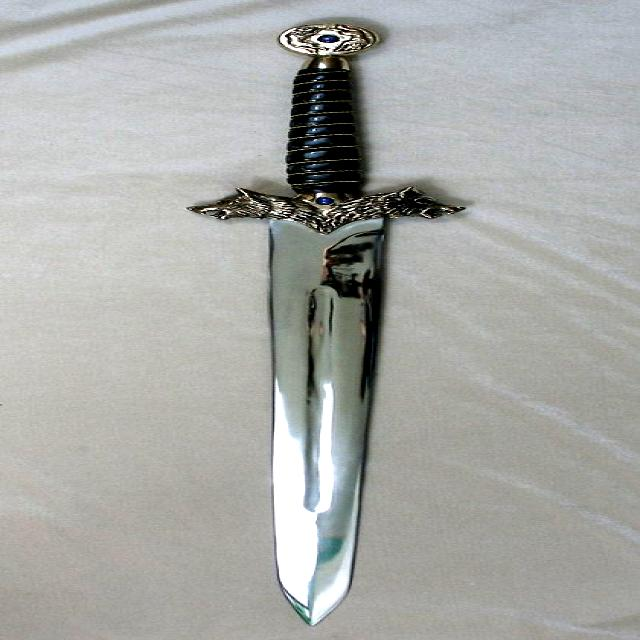short sword: (180, 15, 468, 631)
